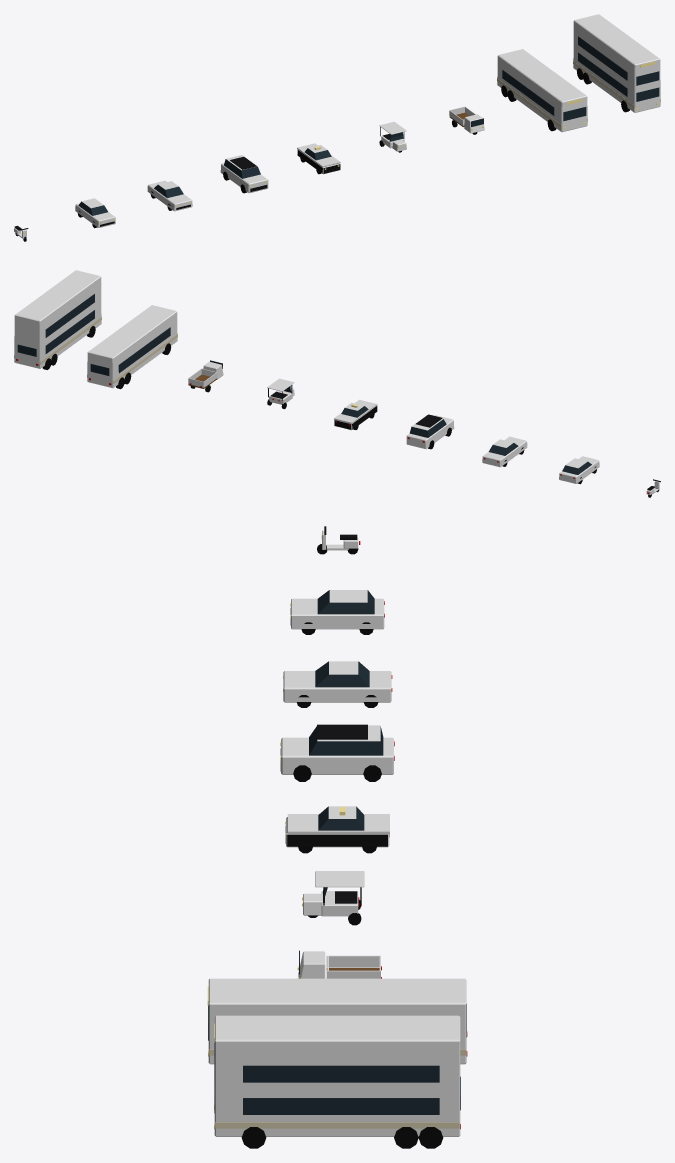
Rendered from npc-vehicles.glb.
The picture shows the model from 3 angles, top to bottom: view 1: azimuth 30°, elevation 25°; view 2: azimuth 150°, elevation 25°; view 3: azimuth 270°, elevation 25°; orthographic projection. The views are drawn at different scales.
Parts seen in each view (by area): view 1: npc_bus_double, npc_bus_single, npc_suv, npc_sedan, npc_cab, npc_hatchback, npc_tempo, npc_auto; view 2: npc_bus_double, npc_bus_single, npc_suv, npc_sedan, npc_cab, npc_hatchback, npc_tempo, npc_auto; view 3: npc_bus_double, npc_bus_single, npc_suv, npc_sedan, npc_cab, npc_hatchback, npc_auto, npc_tempo.
Boxes of the visible parts, <box> form: npc_bus_double: <box>573,14,660,112</box>; npc_bus_single: <box>497,49,587,132</box>; npc_suv: <box>220,155,268,193</box>; npc_sedan: <box>147,180,192,211</box>; npc_cab: <box>297,143,340,174</box>; npc_hatchback: <box>75,198,115,228</box>; npc_tempo: <box>449,106,484,134</box>; npc_auto: <box>379,121,406,152</box>; npc_bus_double: <box>14,270,101,369</box>; npc_bus_single: <box>87,305,177,389</box>; npc_suv: <box>406,414,454,449</box>; npc_sedan: <box>482,436,527,467</box>; npc_cab: <box>334,399,377,430</box>; npc_hatchback: <box>559,456,599,484</box>; npc_tempo: <box>188,360,223,392</box>; npc_auto: <box>267,378,294,409</box>; npc_bus_double: <box>214,1015,460,1148</box>; npc_bus_single: <box>207,978,467,1064</box>; npc_suv: <box>280,724,394,781</box>; npc_sedan: <box>283,661,392,707</box>; npc_cab: <box>285,806,389,853</box>; npc_hatchback: <box>290,590,384,634</box>; npc_auto: <box>302,871,364,925</box>; npc_tempo: <box>297,950,381,978</box>.
Size of the model in its own units: 57.66 by 4.84 by 10.56.
